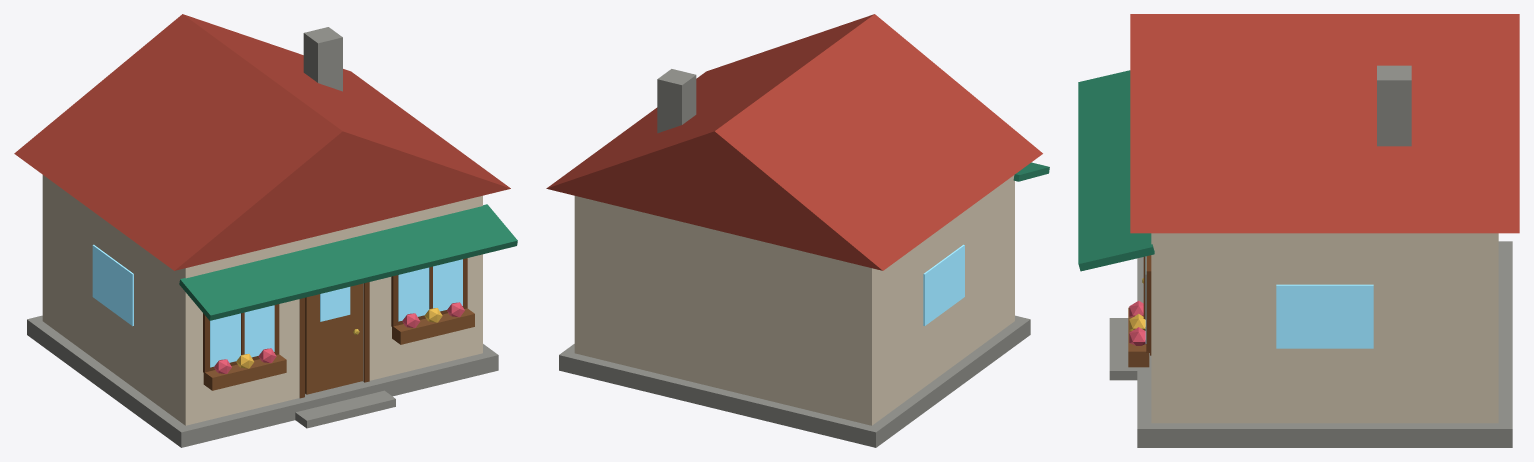
The model's file is building.glb.
The picture shows the model from 3 angles, left to right: view 1: azimuth 30°, elevation 25°; view 2: azimuth 150°, elevation 25°; view 3: azimuth 270°, elevation 25°; orthographic projection. The views are drawn at different scales.
Visible parts, largest first — view 1: Bld_Roof, Bld_WallWest, Bld_Awning, Bld_Foundation, Bld_WallFront_L, Bld_WallFront_R, Bld_Door, Bld_Win_R, Bld_Win_L, Bld_SideWin_W, Bld_Chimney, Bld_Step1 (+9 smaller); view 2: Bld_Roof, Bld_WallBack, Bld_WallWest, Bld_Foundation, Bld_SideWin_W, Bld_Chimney, Bld_WallFront_L; view 3: Bld_Roof, Bld_WallEast, Bld_Foundation, Bld_Awning, Bld_SideWin_E, Bld_Chimney, Bld_WallBack, Bld_WallFront_R, Bld_Step1, Bld_WinFrame_R, Bld_Planter_R.
Boxes of the visible parts, x1,y1,x2,y2 form: Bld_Roof: (14,14,510,270); Bld_WallWest: (48,179,179,421); Bld_Awning: (179,204,517,320); Bld_Foundation: (27,315,498,447); Bld_WallFront_L: (180,239,304,425); Bld_WallFront_R: (363,195,482,381); Bld_Door: (305,283,363,394); Bld_Win_R: (398,259,462,321); Bld_Win_L: (210,305,274,367); Bld_SideWin_W: (92,244,133,326); Bld_Chimney: (303,27,342,91); Bld_Step1: (295,390,395,428); Bld_Roof: (546,14,1042,270); Bld_WallBack: (574,196,877,425); Bld_WallWest: (877,179,1009,420); Bld_Foundation: (559,315,1030,447); Bld_SideWin_W: (923,244,964,325); Bld_Chimney: (657,69,696,133); Bld_WallFront_L: (1009,175,1014,324); Bld_Roof: (1130,14,1519,233); Bld_WallEast: (1165,233,1484,423); Bld_Foundation: (1137,241,1512,447); Bld_Awning: (1078,70,1154,271); Bld_SideWin_E: (1276,284,1373,348); Bld_Chimney: (1377,65,1411,146); Bld_WallBack: (1484,233,1498,423); Bld_WallFront_R: (1151,233,1165,423); Bld_Step1: (1109,318,1137,380); Bld_WinFrame_R: (1146,255,1151,352); Bld_Planter_R: (1128,307,1149,367).
Bounding box in the file's own units: 6.8 × 5.4 × 6.35.
